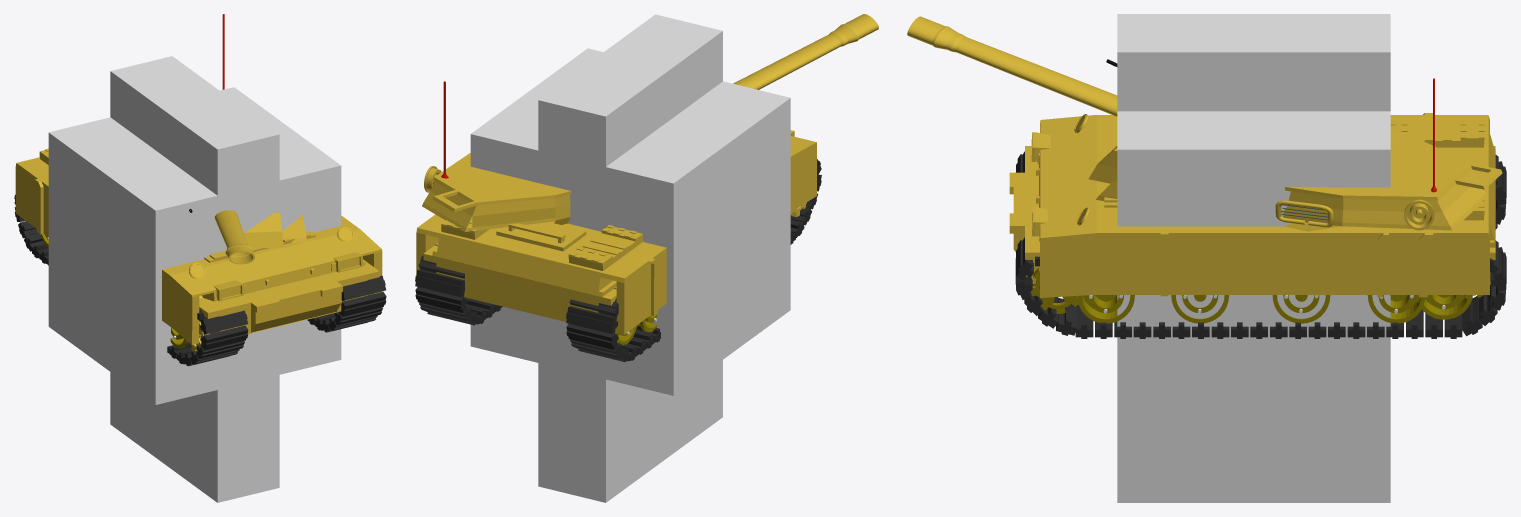
The model's file is abrams-tank_.glb.
3 views of the same model, side by side, from view 1: azimuth 30°, elevation 25°; view 2: azimuth 150°, elevation 25°; view 3: azimuth 270°, elevation 25° (orthographic). The views are drawn at different scales.
Parts seen in each view (by area): view 1: Cube.003, Cube, Cube.006, Cube.007, Cube.001, Circle.020, Cube.002, Cube.010, Cube.011, Cube.012; view 2: Cube.003, Cube, Cube.001, Cube.010, Cube.005, Circle.020, Cube.002, Cube.006; view 3: Cube.003, Cube, Cube.001, Cube.009, Circle.020, Cube.007, Cube.005, Circle.014, Circle.019, Circle.010, Circle.016, Circle.015 (+3 smaller).
Boxes of the visible parts, box(x1,y1,x2,y2) form: Cube.003: box(48, 56, 341, 502); Cube: box(15, 148, 382, 344); Cube.006: box(183, 310, 248, 366); Cube.007: box(321, 275, 386, 332); Cube.001: box(244, 211, 306, 248); Circle.020: box(214, 210, 254, 264); Cube.002: box(32, 243, 192, 364); Cube.010: box(14, 194, 43, 251); Cube.011: box(214, 280, 244, 301); Cube.012: box(333, 252, 363, 272); Cube.003: box(470, 14, 790, 502); Cube: box(416, 136, 816, 334); Cube.001: box(422, 153, 571, 231); Cube.010: box(566, 288, 630, 362); Cube.005: box(415, 244, 479, 325); Circle.020: box(733, 14, 878, 89); Cube.002: box(622, 230, 795, 360); Cube.006: box(790, 159, 821, 237); Cube.003: box(1117, 14, 1390, 502); Cube: box(1009, 113, 1495, 297); Cube.001: box(1088, 130, 1502, 231); Cube.009: box(1075, 304, 1462, 338); Circle.020: box(907, 16, 1117, 116); Cube.007: box(1015, 237, 1076, 335); Cube.005: box(1462, 240, 1506, 336); Circle.014: box(1077, 295, 1134, 323); Circle.019: box(1367, 295, 1425, 323); Circle.010: box(1415, 295, 1472, 319); Circle.016: box(1272, 295, 1330, 323); Circle.015: box(1171, 295, 1228, 323).
Size of the model in its own units: 2.32 by 3.77 by 4.39.
